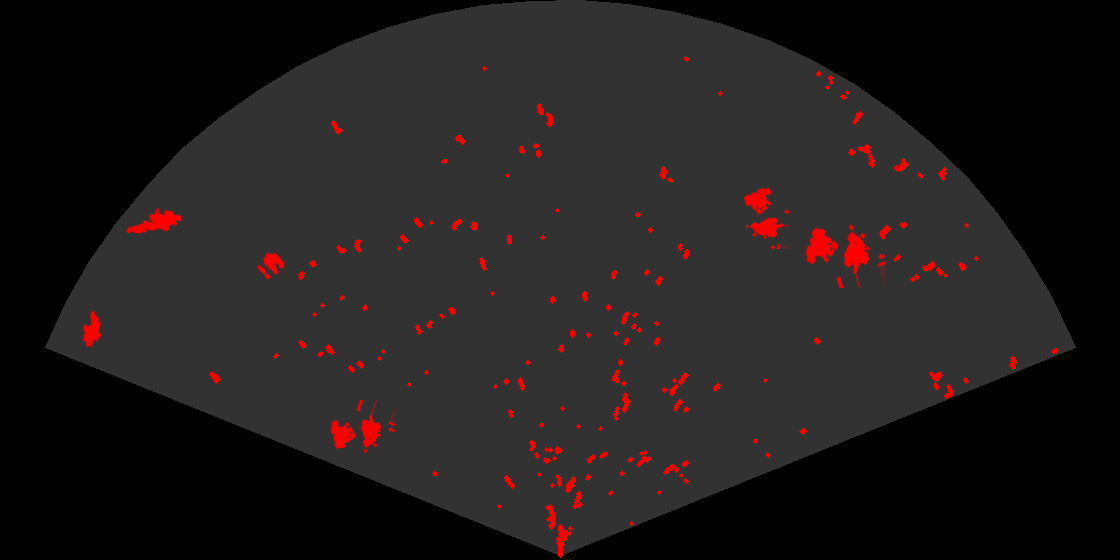AUV: (81, 309, 102, 349)
ball: (256, 251, 286, 281)
cage: (804, 222, 885, 288), (329, 400, 395, 455), (742, 186, 789, 249)
frogman: (125, 206, 181, 235)
